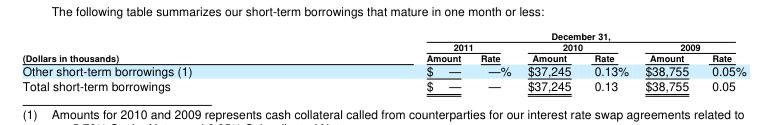table: (21, 29, 745, 94)
table column: (21, 29, 308, 94), (308, 29, 470, 94), (518, 29, 582, 94), (636, 29, 699, 94), (582, 29, 636, 94), (470, 29, 518, 94), (699, 29, 745, 94)
table column header: (21, 29, 745, 62)
table row: (21, 62, 745, 78), (21, 78, 745, 94), (21, 29, 745, 41), (21, 41, 745, 52), (21, 52, 745, 62)
table spanning cell: (21, 29, 308, 62), (308, 29, 745, 41), (308, 41, 518, 52), (518, 41, 636, 52), (636, 41, 745, 52)
